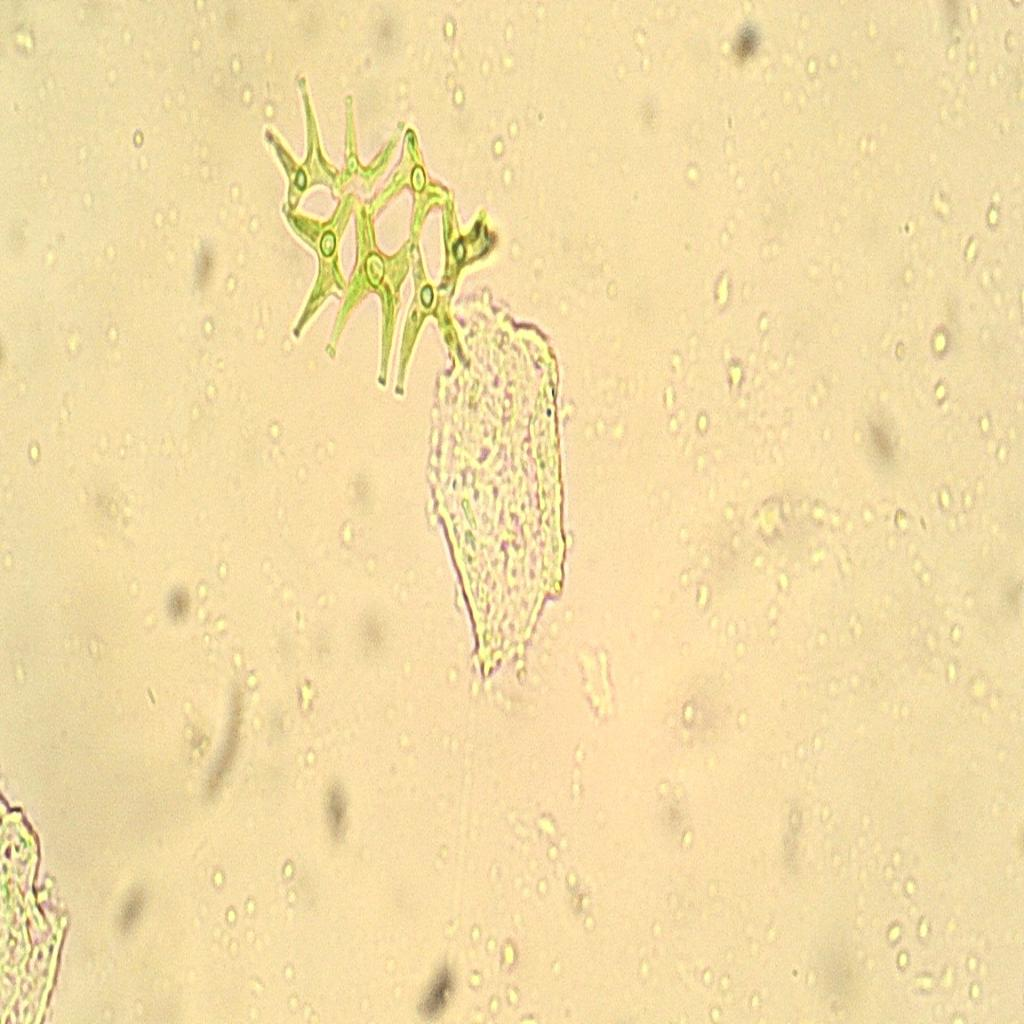Pediastrum_CFI: (223, 46, 529, 412)
